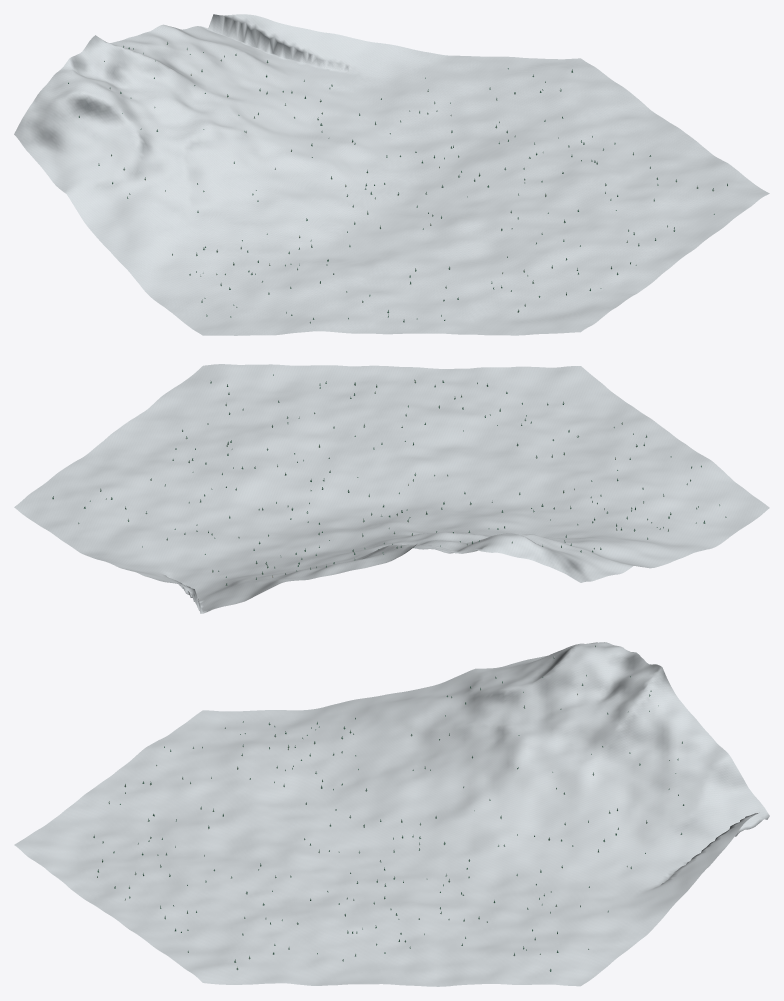
3 views of the same model, one above another, from view 1: azimuth 30°, elevation 25°; view 2: azimuth 150°, elevation 25°; view 3: azimuth 270°, elevation 25° (orthographic).
Visible parts, largest first — view 1: terrain_v10, snow_pines_nonmetal; view 2: terrain_v10, snow_pines_nonmetal; view 3: terrain_v10, snow_pines_nonmetal.
Boxes of the visible parts, x1,y1,x2,y2 form: terrain_v10: (14, 14, 769, 335); snow_pines_nonmetal: (68, 42, 728, 323); terrain_v10: (14, 364, 769, 613); snow_pines_nonmetal: (52, 374, 726, 585); terrain_v10: (14, 642, 769, 986); snow_pines_nonmetal: (93, 645, 684, 971).
Size of the model in its own units: 4330 by 765 by 5000.
2 materials, 1 textured.
